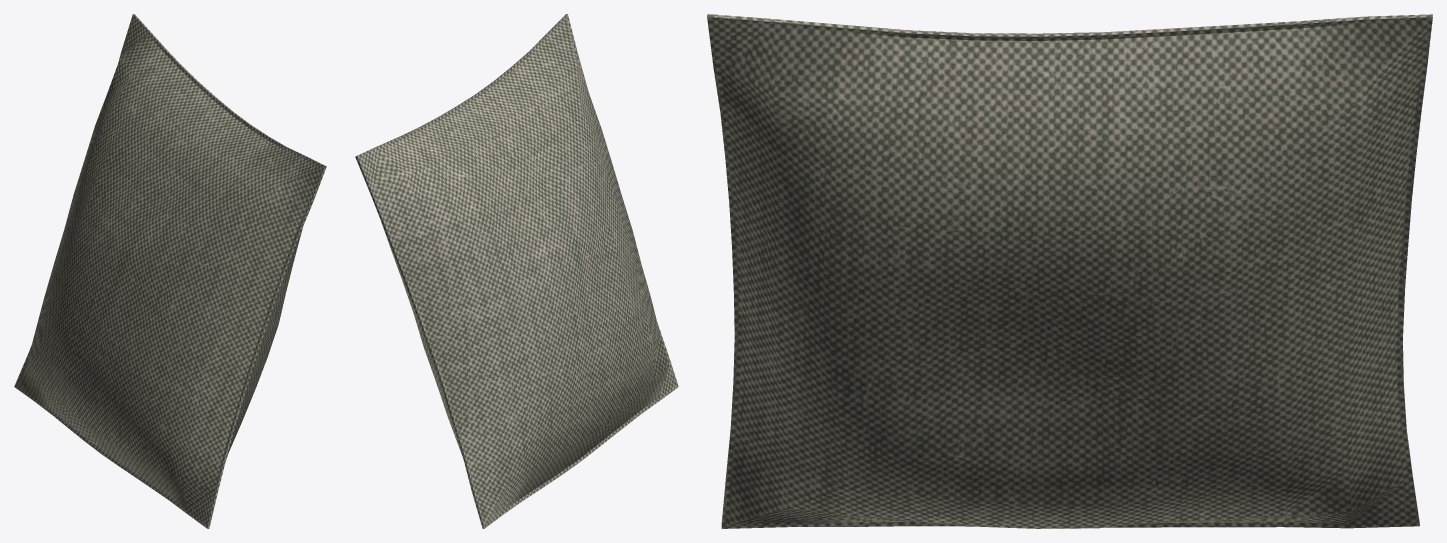
File: Pillow2.fbx
3 renders of one model, left to right at view 1: azimuth 30°, elevation 25°; view 2: azimuth 150°, elevation 25°; view 3: azimuth 270°, elevation 25°, orthographic. The views are drawn at different scales.
Visible parts, largest first — view 1: Pillow.004; view 2: Pillow.004; view 3: Pillow.004.
Part boxes in pixels (left/top/right/bottom): Pillow.004: left=14, top=14, right=326, bottom=528; Pillow.004: left=355, top=14, right=678, bottom=528; Pillow.004: left=707, top=14, right=1432, bottom=528.
Bounding box in the file's own units: 26.69 × 57.07 × 60.42.
1 material, 1 textured.
